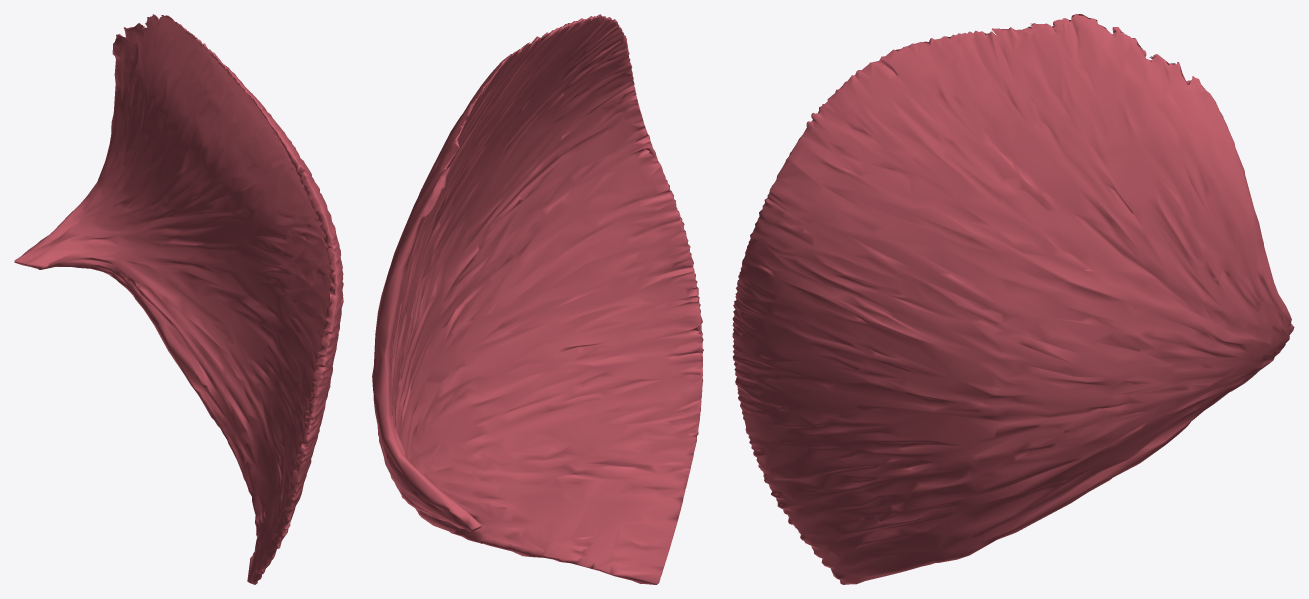
The picture shows the model from 3 angles, left to right: view 1: azimuth 30°, elevation 25°; view 2: azimuth 150°, elevation 25°; view 3: azimuth 270°, elevation 25°; orthographic projection. The views are drawn at different scales.
Parts seen in each view (by area): view 1: 左侧颞顶肌; view 2: 左侧颞顶肌; view 3: 左侧颞顶肌.
Boxes of the visible parts, left/top/right/bottom form: 左侧颞顶肌: left=14, top=14, right=343, bottom=584; 左侧颞顶肌: left=372, top=14, right=703, bottom=584; 左侧颞顶肌: left=732, top=14, right=1294, bottom=584.
Bounding box in the file's own units: 0.0563 × 0.1721 × 0.1516.
